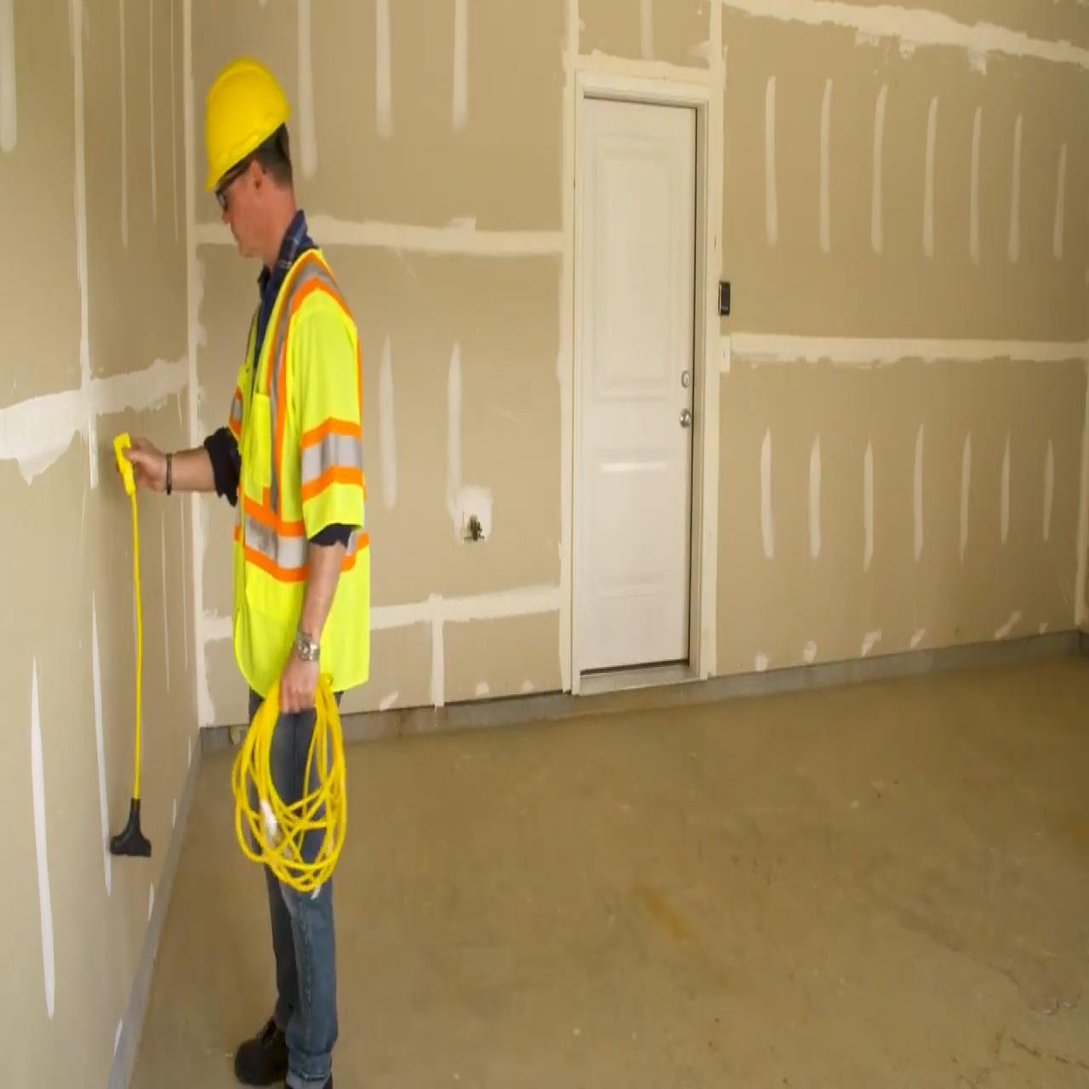NO_Safety_Vest: (230, 251, 368, 696)
Person: (121, 47, 375, 1089)
